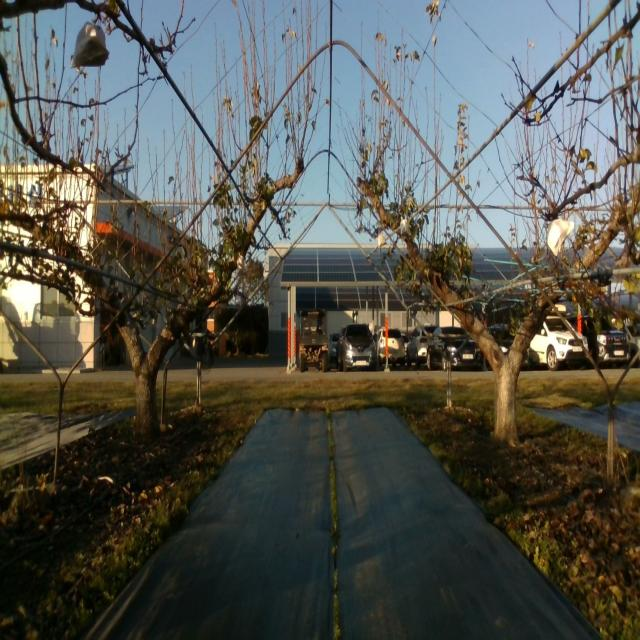pearbags: (70, 22, 110, 68), (547, 218, 574, 256)
